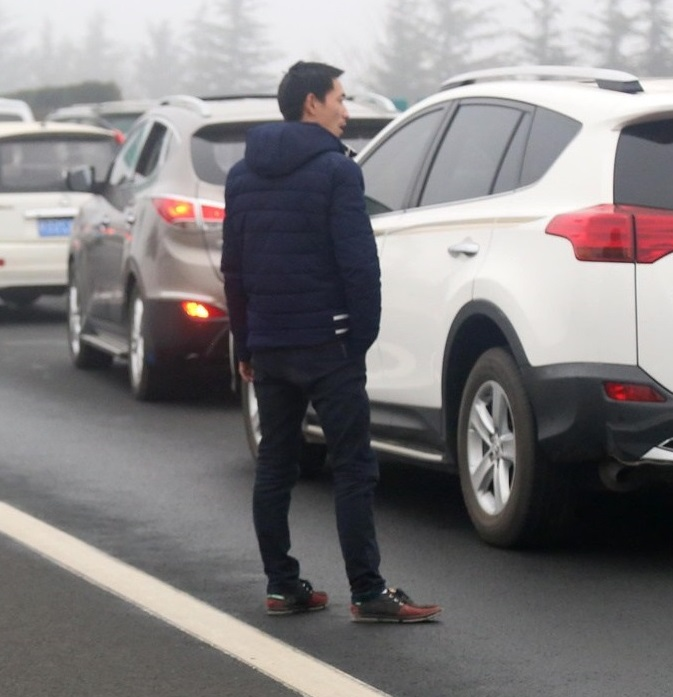person: (218, 57, 447, 627)
